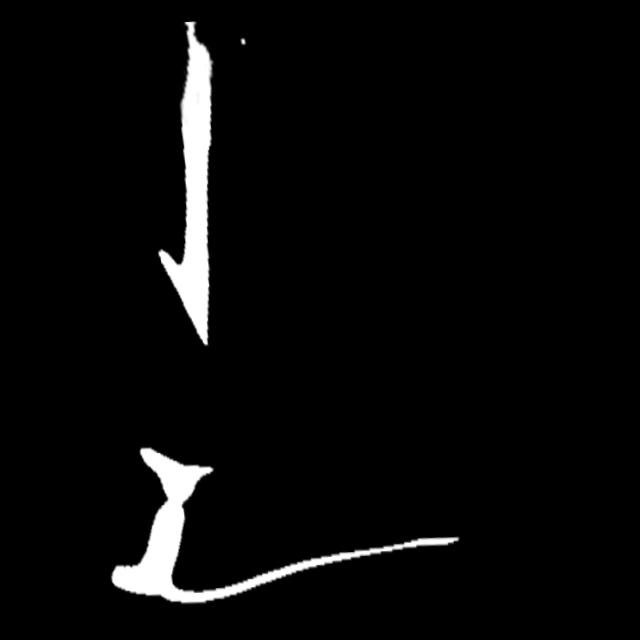sl: (168, 16, 225, 72)
